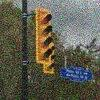traffic lights: (36, 7, 53, 64)
